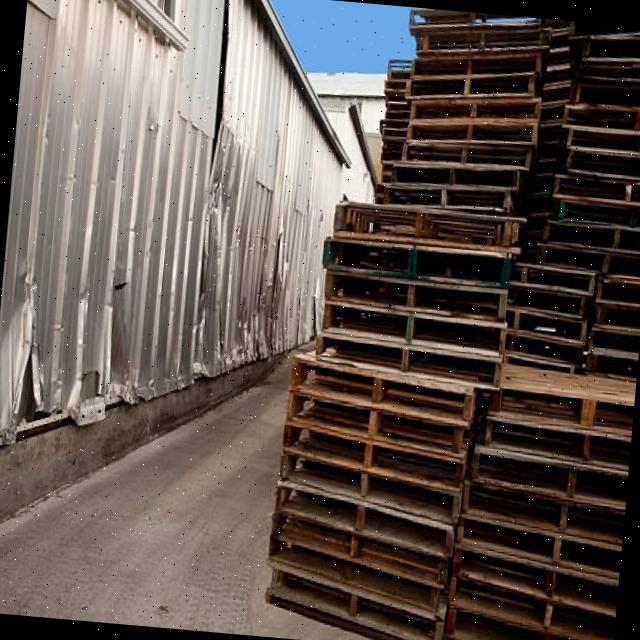Wooden-Pallets: (266, 474, 453, 568), (288, 350, 475, 419), (315, 237, 515, 299), (397, 139, 533, 176)
